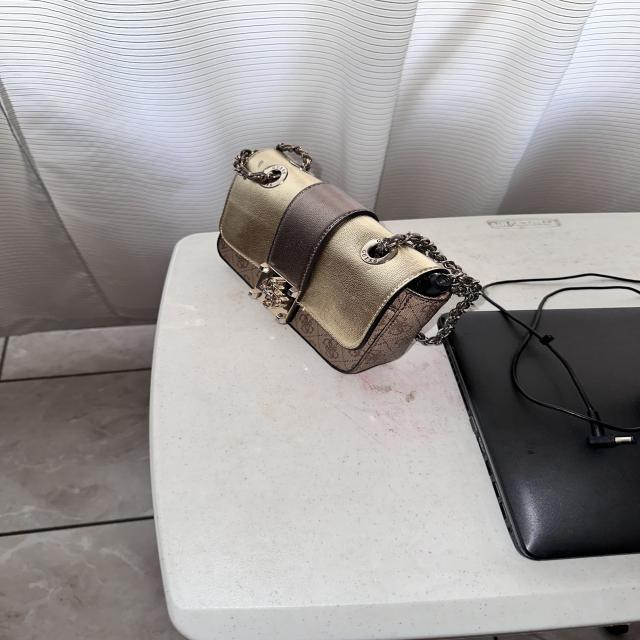hidden camera: (436, 273, 451, 287)
